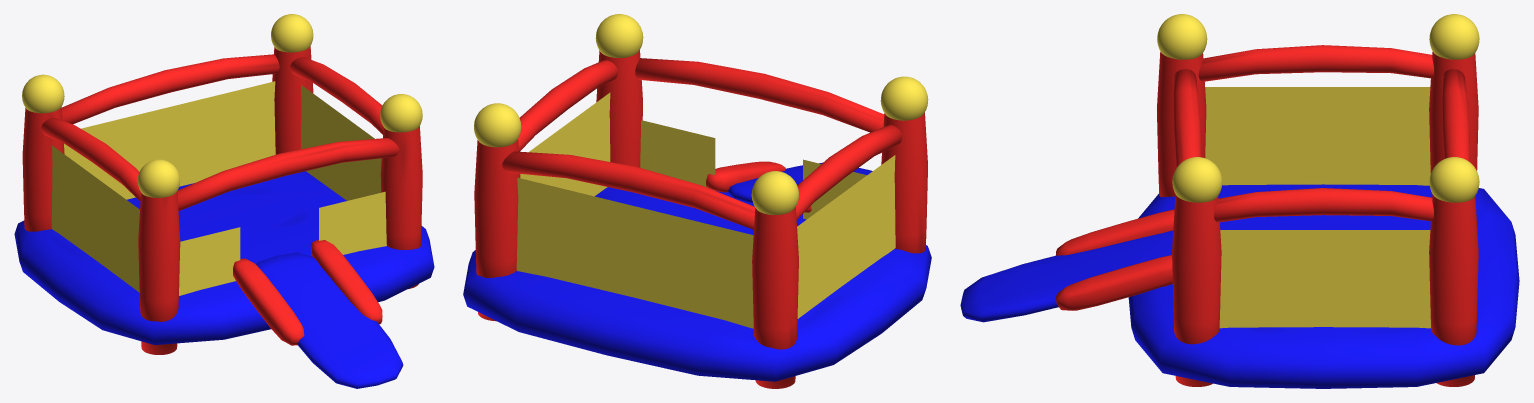
The model's file is bounce_room.glb.
3 views of the same model, side by side, from view 1: azimuth 30°, elevation 25°; view 2: azimuth 150°, elevation 25°; view 3: azimuth 270°, elevation 25° (orthographic). The views are drawn at different scales.
Visible parts, largest first — view 1: bounce_house_model; view 2: bounce_house_model; view 3: bounce_house_model.
Part boxes in pixels (x1=…): bounce_house_model: x1=14, y1=14, x2=434, y2=388; bounce_house_model: x1=463, y1=14, x2=931, y2=388; bounce_house_model: x1=960, y1=14, x2=1519, y2=388.
Bounding box in the file's own units: 8.43 × 4.46 × 10.28.
1 material, 1 textured.
